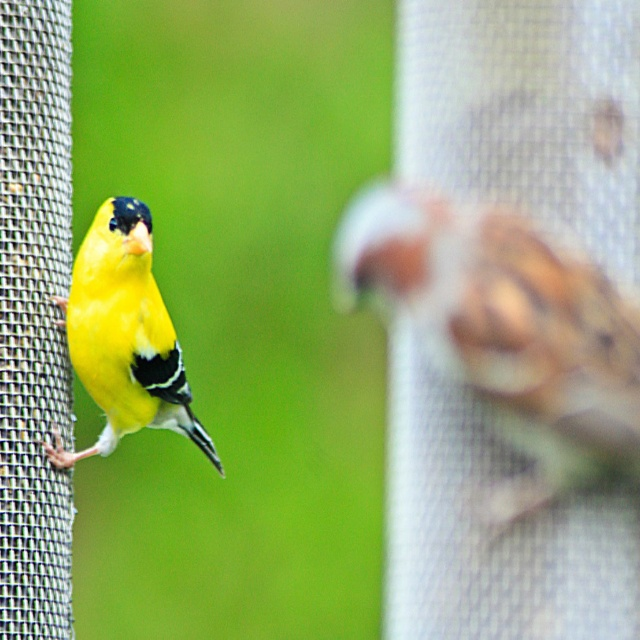Canary: (338, 168, 640, 540), (36, 188, 225, 480)
